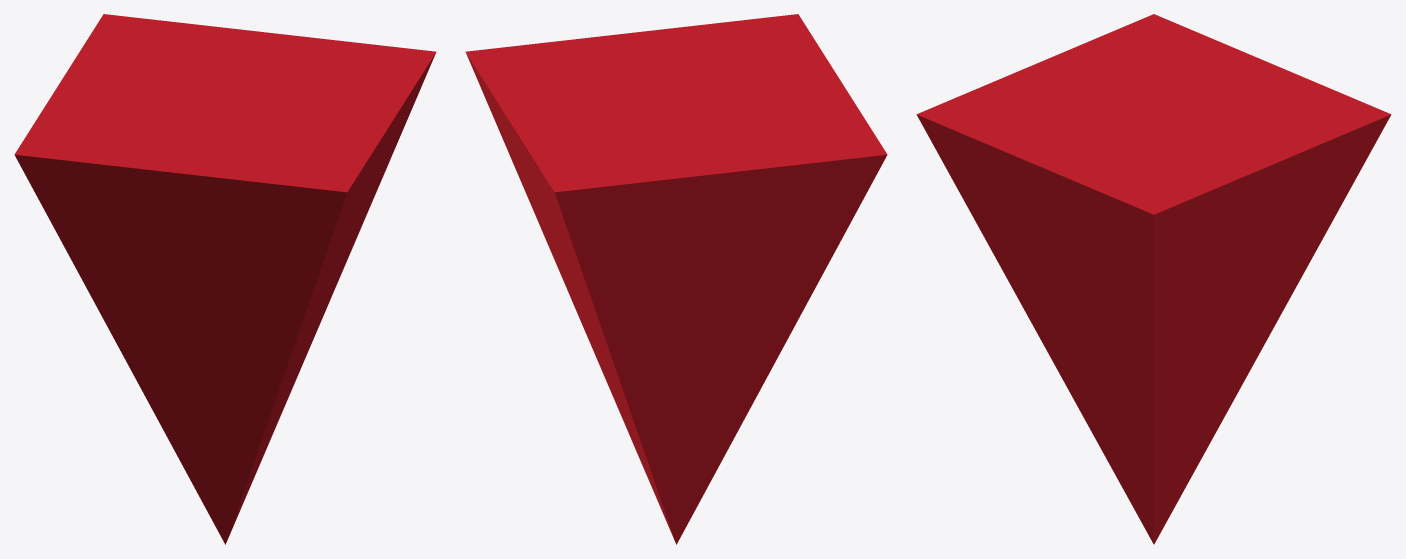
The model's file is yajirushi.fbx.
3 views of the same model, side by side, from view 1: azimuth 30°, elevation 25°; view 2: azimuth 150°, elevation 25°; view 3: azimuth 270°, elevation 25° (orthographic). The views are drawn at different scales.
Visible parts, largest first — view 1: Yajirushi; view 2: Yajirushi; view 3: Yajirushi.
Part boxes in pixels (<box>): Yajirushi: <box>14,14,436,544</box>; Yajirushi: <box>465,14,887,544</box>; Yajirushi: <box>916,14,1391,544</box>.
Size of the model in its own units: 24.21 by 24.21 by 24.21.
